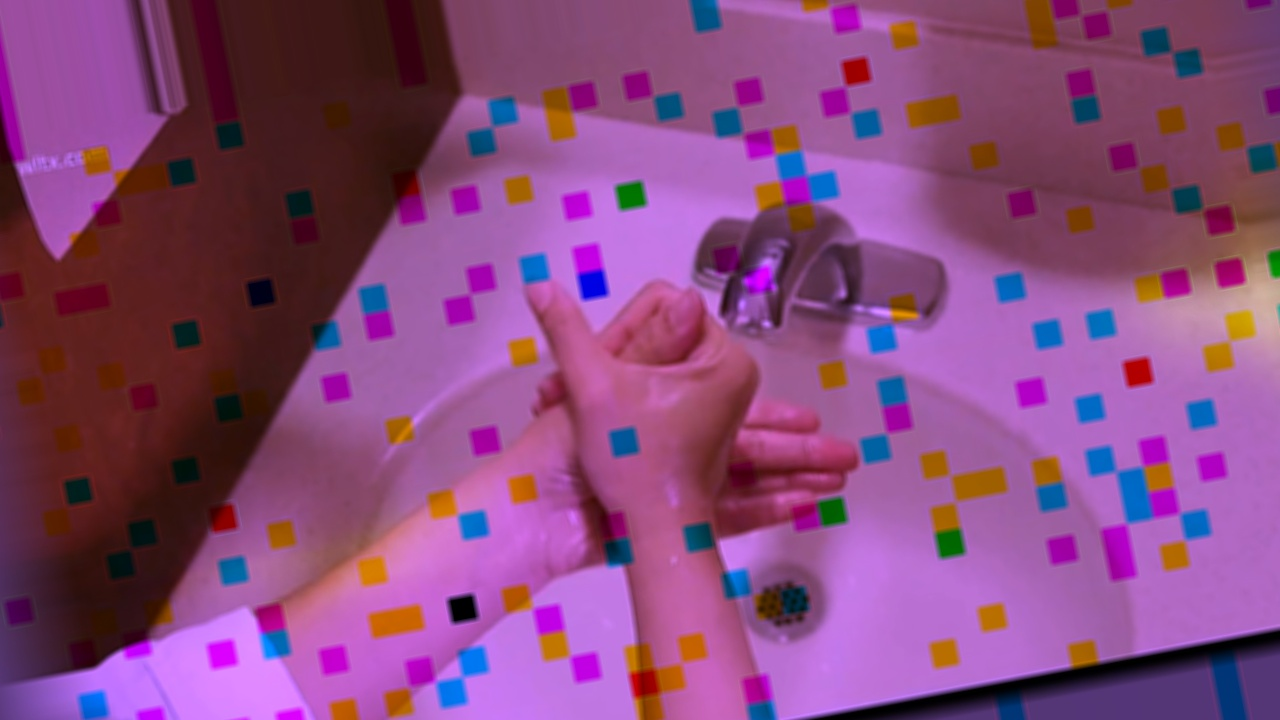washing hand: (478, 109, 1052, 687)
